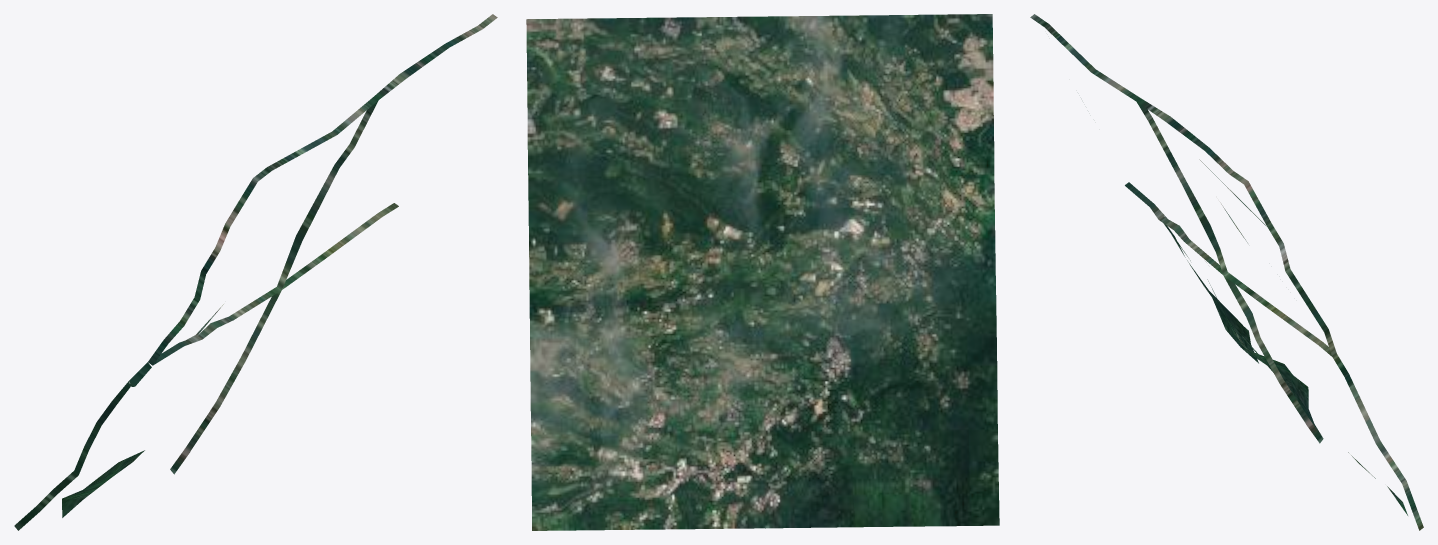
3 views of the same model, side by side, from view 1: azimuth 30°, elevation 25°; view 2: azimuth 150°, elevation 25°; view 3: azimuth 270°, elevation 25° (orthographic). The views are drawn at different scales.
Size of the model in its own units: 5234 by 4505 by 4012.
1 material, 1 textured.
